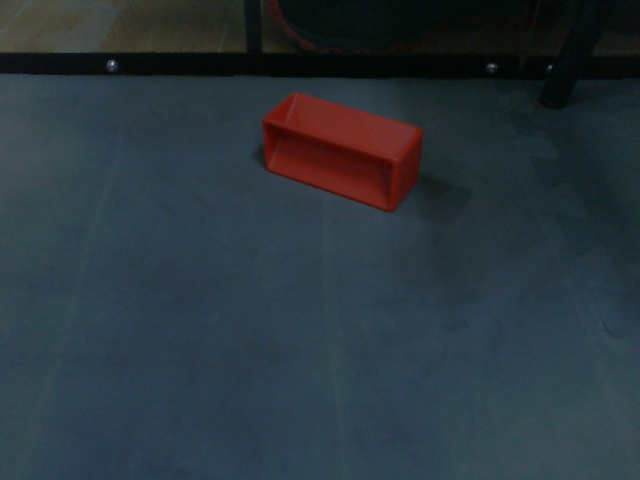RedSample: (258, 90, 425, 215)
